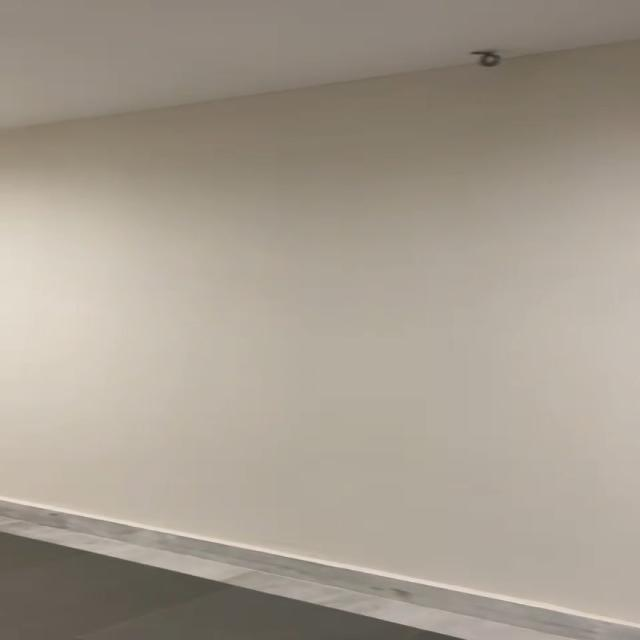floor: (0, 522, 293, 640)
wall: (0, 113, 640, 510)
